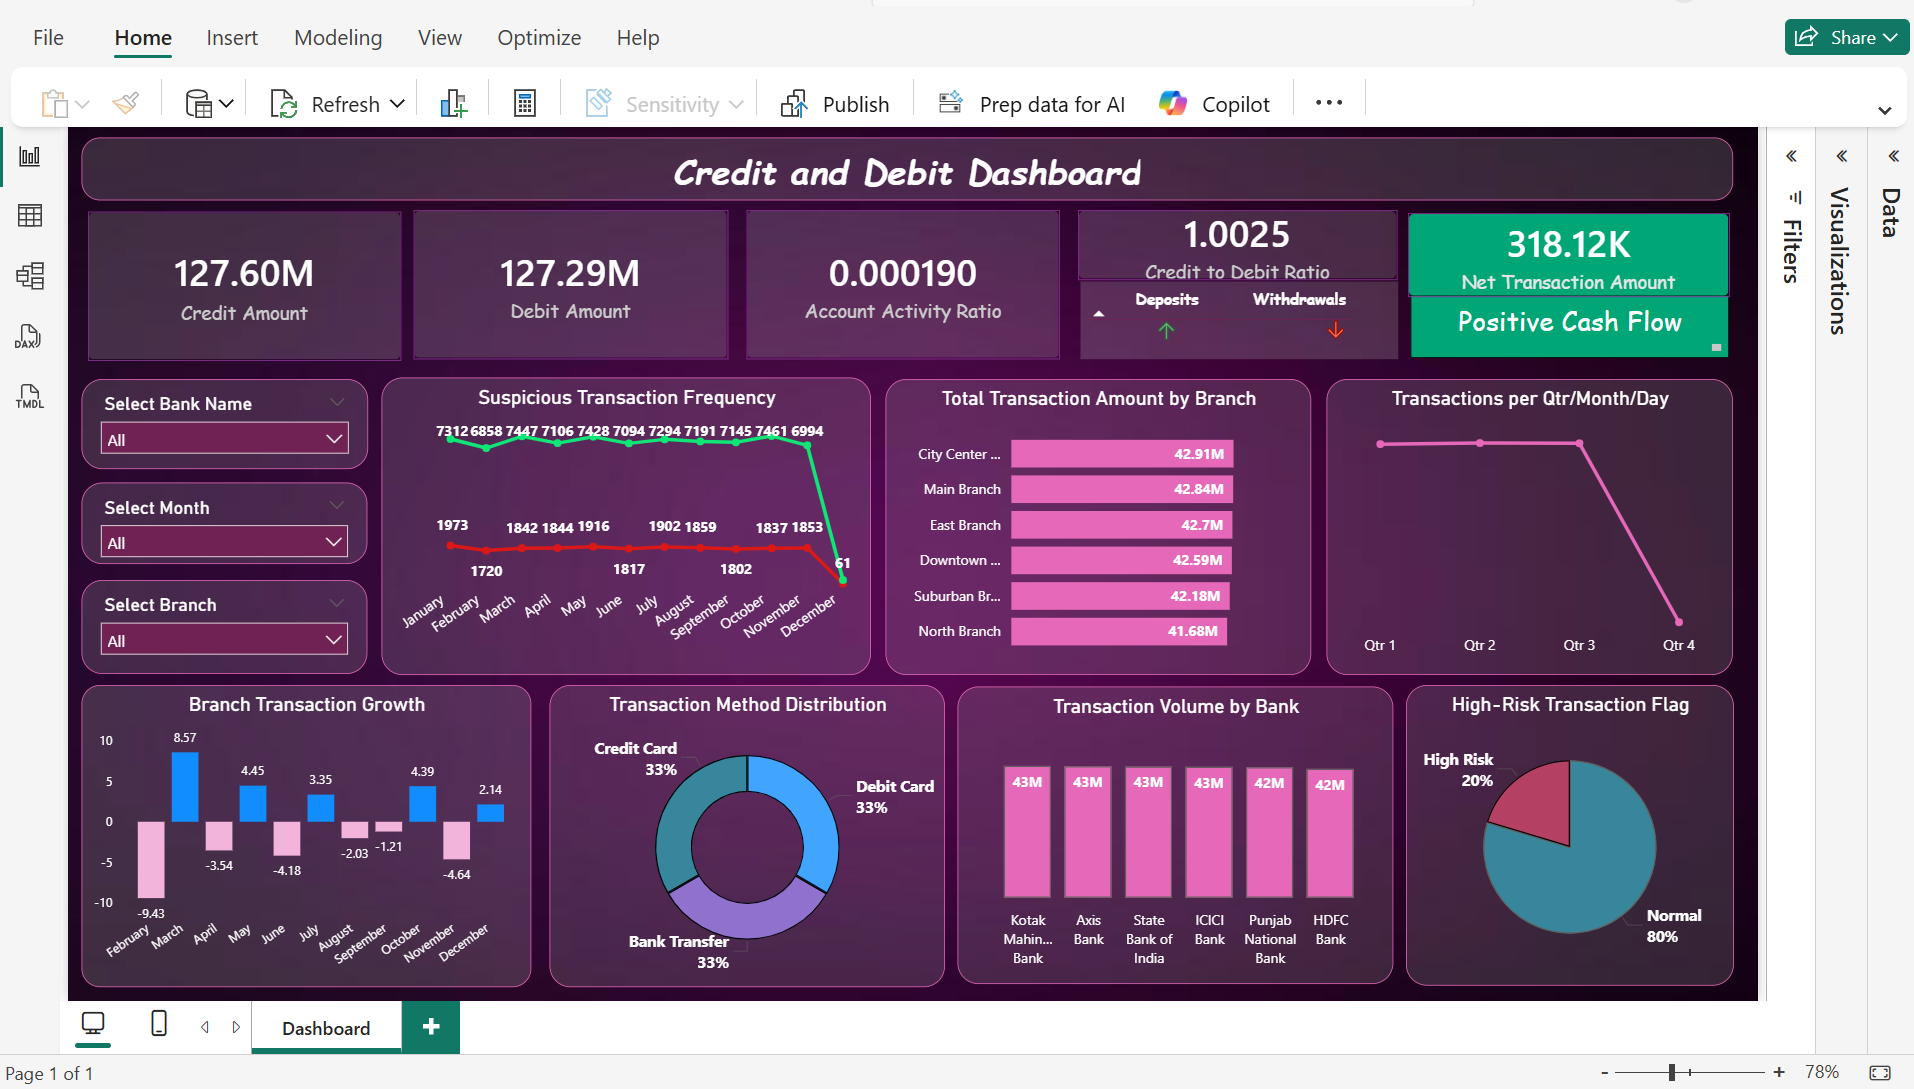

The page's visual inventory and layout, read from the dashboard file:
{"tool":"powerbi","page":{"name":"Dashboard","canvas":[1450,750],"ordinal":0},"visuals":[{"type":"cardVisual","fields":{"Data":["Cleaned Data.Total Credit Amount"]},"box":[0,54.9,303.6,162],"z":0},{"type":"shape","box":[862,64.8,285.2,119],"z":0,"group":"g1"},{"type":"cardVisual","fields":{"Data":["Measures Table.Credit to Debit Ratio"]},"box":[849.8,54.3,308,94.8],"z":1000,"group":"g1"},{"type":"clusteredBarChart","title":"Total Transaction Amount by Branch","fields":{"Category":["Cleaned Data.Branch"],"Y":["Measures Table.Total Amount"]},"box":[701.6,216.1,365.4,253.9],"z":1000},{"type":"shape","box":[11.6,9,1417.2,54.1],"z":2000},{"type":"clusteredColumnChart","title":"Transaction Volume by Bank","fields":{"Category":["Debit & Credit Data.Bank Name"],"Y":["Sum(Debit & Credit Data.Amount)"]},"box":[763.3,480.3,373.9,255.6],"z":3000},{"type":"donutChart","title":"Transaction Method Distribution","fields":{"Category":["Debit & Credit Data.Transaction Method"],"Y":["Count(Debit & Credit Data.Account Number)"]},"box":[413.4,478.6,339.6,259],"z":4000},{"type":"pieChart","title":"High-Risk Transaction Flag","fields":{"Category":["Debit & Credit Data.High Risk"],"Y":["Count(Debit & Credit Data.Amount)"]},"box":[1148,479.3,281.3,258.3],"z":5000},{"type":"cardVisual","fields":{"Data":["Measures Table.Debit Amount"]},"box":[279.4,54.1,304.2,162],"z":6000},{"type":"cardVisual","fields":{"Data":["Measures Table.Account Activity Ratio"]},"box":[565.3,54.3,303.2,162],"z":7000},{"type":"group","id":"g1","title":"Group 2","box":[849.8,54.3,308,129.5],"z":7000,"group":"g3"},{"type":"cardVisual","fields":{"Data":["Measures Table.Net Transaction Amount"]},"box":[1132.1,56.6,310.2,106.8],"z":7000,"group":"g4"},{"type":"group","id":"g2","title":"Group 3","box":[1132.1,56.6,310.5,142.4],"z":8000},{"type":"group","id":"g3","title":"Group 4","box":[849.8,54.3,308,145],"z":9000},{"type":"tableEx","fields":{"Values":["Measures Table.Deposits Arrow","Measures Table.Withdrawals"]},"box":[869,132.5,272.7,66.8],"z":9000,"group":"g3"},{"type":"textbox","box":[1150.8,144.2,273.1,54],"z":10000,"group":"g2"},{"type":"lineChart","title":"Transactions per Qtr/Month/Day","fields":{"Y":["CountNonNull(Debit & Credit Data.Transaction Method)"],"Category":["DateTable.Date.Variation.Date Hierarchy.Quarter","DateTable.Date.Variation.Date Hierarchy.Month","DateTable.Date.Variation.Date Hierarchy.Day"]},"box":[1080.5,216.7,348.7,254],"z":10000},{"type":"lineChart","title":"Suspicious Transaction Frequency","fields":{"Series":["Debit & Credit Data.High Risk"],"Y":["CountNonNull(Debit & Credit Data.Transaction Method)"],"Category":["DateTable.Date.Variation.Date Hierarchy.Month","DateTable.Date.Variation.Date Hierarchy.Day"]},"box":[269.3,214.4,420.3,255.6],"z":11000},{"type":"slicer","fields":{"Values":["DateTable.Date.Variation.Date Hierarchy.Month"]},"box":[12,305.3,245.3,70.3],"z":12000},{"type":"slicer","fields":{"Values":["Debit & Credit Data.Bank Name"]},"box":[11.7,216.5,245.7,77.5],"z":13000},{"type":"group","id":"g4","title":"Group 1","box":[1132.1,56.6,310.2,106.2],"z":13002,"group":"g2"},{"type":"clusteredColumnChart","title":"Branch Transaction Growth","fields":{"Category":["DateTable.Date.Variation.Date Hierarchy.Month"],"Y":["Measures Table.MoM Growth %"]},"box":[12,478.6,385.9,259],"z":14000},{"type":"slicer","fields":{"Values":["Debit & Credit Data.Branch"]},"box":[12,389.4,245.3,80.6],"z":15000}]}

Visuals, with their boxes on the page's 1450x750 design canvas (x1, y1, x2, y2). These are canvas units, not pixel positions in the 1914x1089 screenshot, which may show the page scaled, cropped or inside an application window:
cardVisual - Cleaned Data.Total Credit Amount: [left=0, top=55, right=304, bottom=217]
shape: [left=862, top=65, right=1147, bottom=184]
cardVisual - Measures Table.Credit to Debit Ratio: [left=850, top=54, right=1158, bottom=149]
"Total Transaction Amount by Branch" clusteredBarChart: [left=702, top=216, right=1067, bottom=470]
shape: [left=12, top=9, right=1429, bottom=63]
"Transaction Volume by Bank" clusteredColumnChart: [left=763, top=480, right=1137, bottom=736]
"Transaction Method Distribution" donutChart: [left=413, top=479, right=753, bottom=738]
"High-Risk Transaction Flag" pieChart: [left=1148, top=479, right=1429, bottom=738]
cardVisual - Measures Table.Debit Amount: [left=279, top=54, right=584, bottom=216]
cardVisual - Measures Table.Account Activity Ratio: [left=565, top=54, right=868, bottom=216]
"Group 2" group: [left=850, top=54, right=1158, bottom=184]
cardVisual - Measures Table.Net Transaction Amount: [left=1132, top=57, right=1442, bottom=163]
"Group 3" group: [left=1132, top=57, right=1443, bottom=199]
"Group 4" group: [left=850, top=54, right=1158, bottom=199]
tableEx - Measures Table.Deposits Arrow x Measures Table.Withdrawals: [left=869, top=132, right=1142, bottom=199]
textbox: [left=1151, top=144, right=1424, bottom=198]
"Transactions per Qtr/Month/Day" lineChart: [left=1080, top=217, right=1429, bottom=471]
"Suspicious Transaction Frequency" lineChart: [left=269, top=214, right=690, bottom=470]
slicer - DateTable.Date.Variation.Date Hierarchy.Month: [left=12, top=305, right=257, bottom=376]
slicer - Debit & Credit Data.Bank Name: [left=12, top=216, right=257, bottom=294]
"Group 1" group: [left=1132, top=57, right=1442, bottom=163]
"Branch Transaction Growth" clusteredColumnChart: [left=12, top=479, right=398, bottom=738]
slicer - Debit & Credit Data.Branch: [left=12, top=389, right=257, bottom=470]
